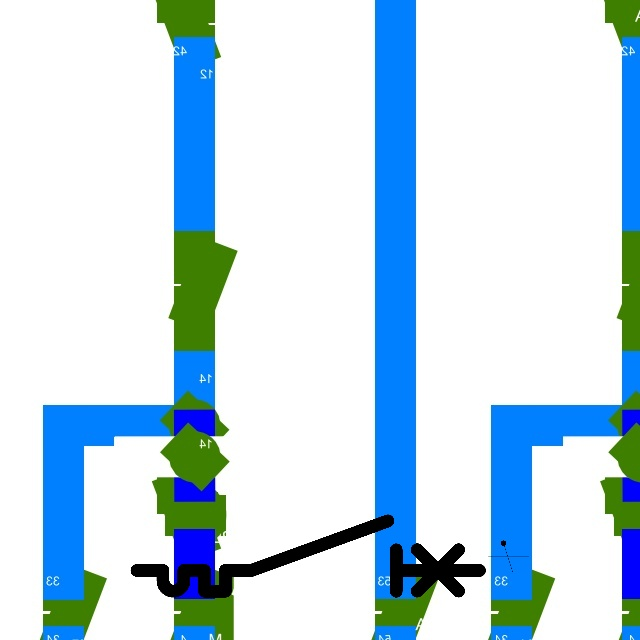interruptor_termomagnetico: (128, 512, 488, 600)
